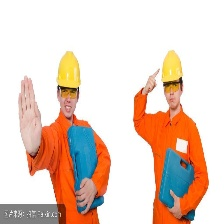helmet: (56, 52, 82, 90), (161, 52, 183, 82)
person: (133, 50, 209, 224), (49, 49, 111, 224)
